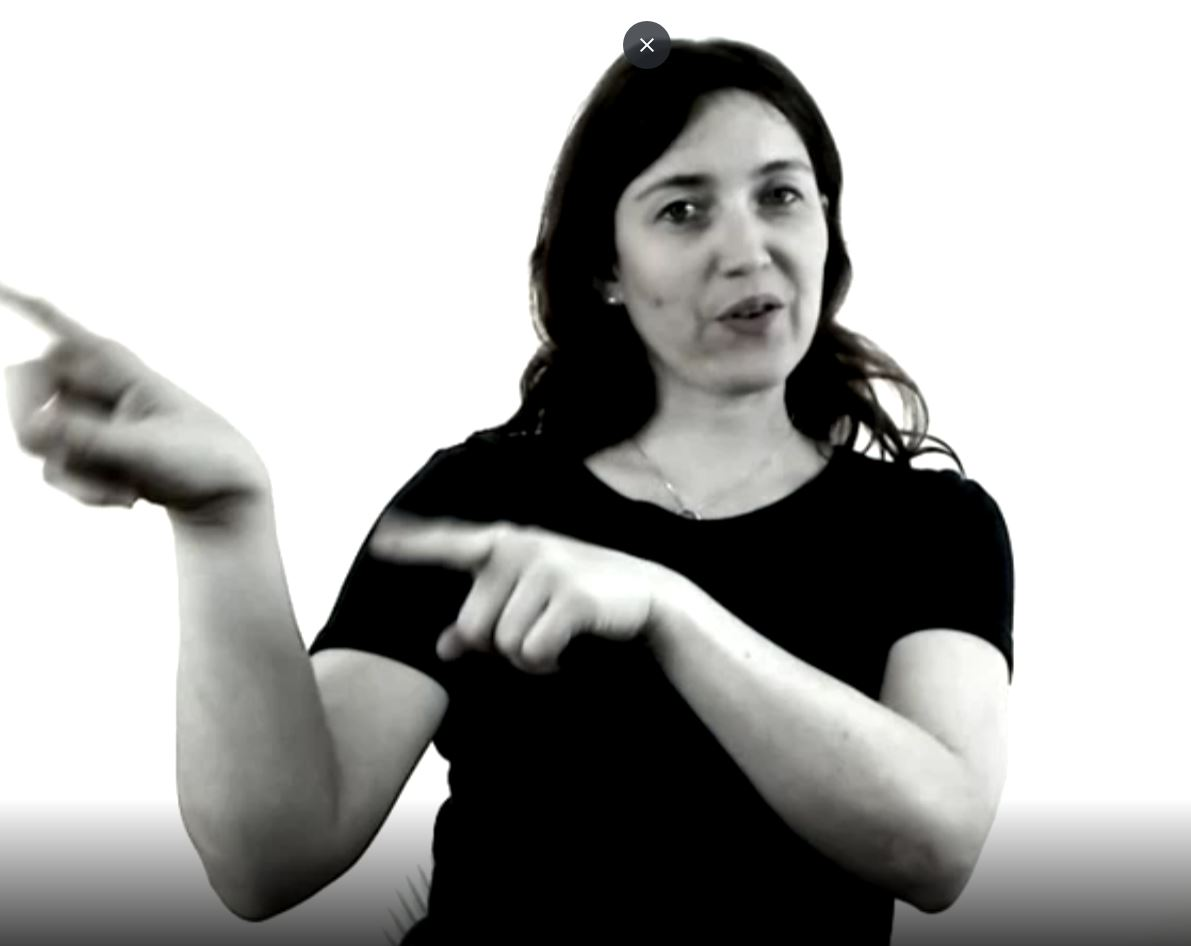go: (1, 270, 666, 734)
